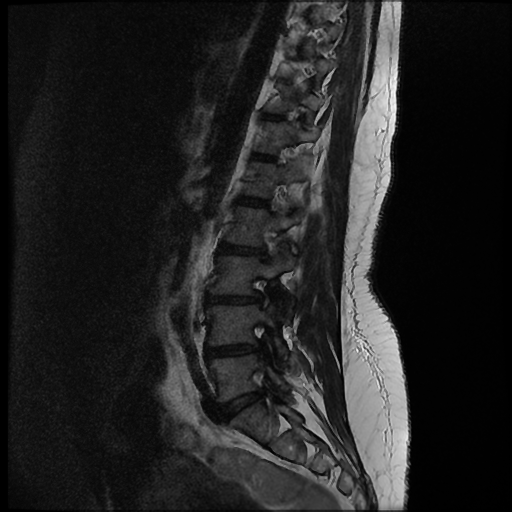LFS2: (239, 267, 278, 313)
